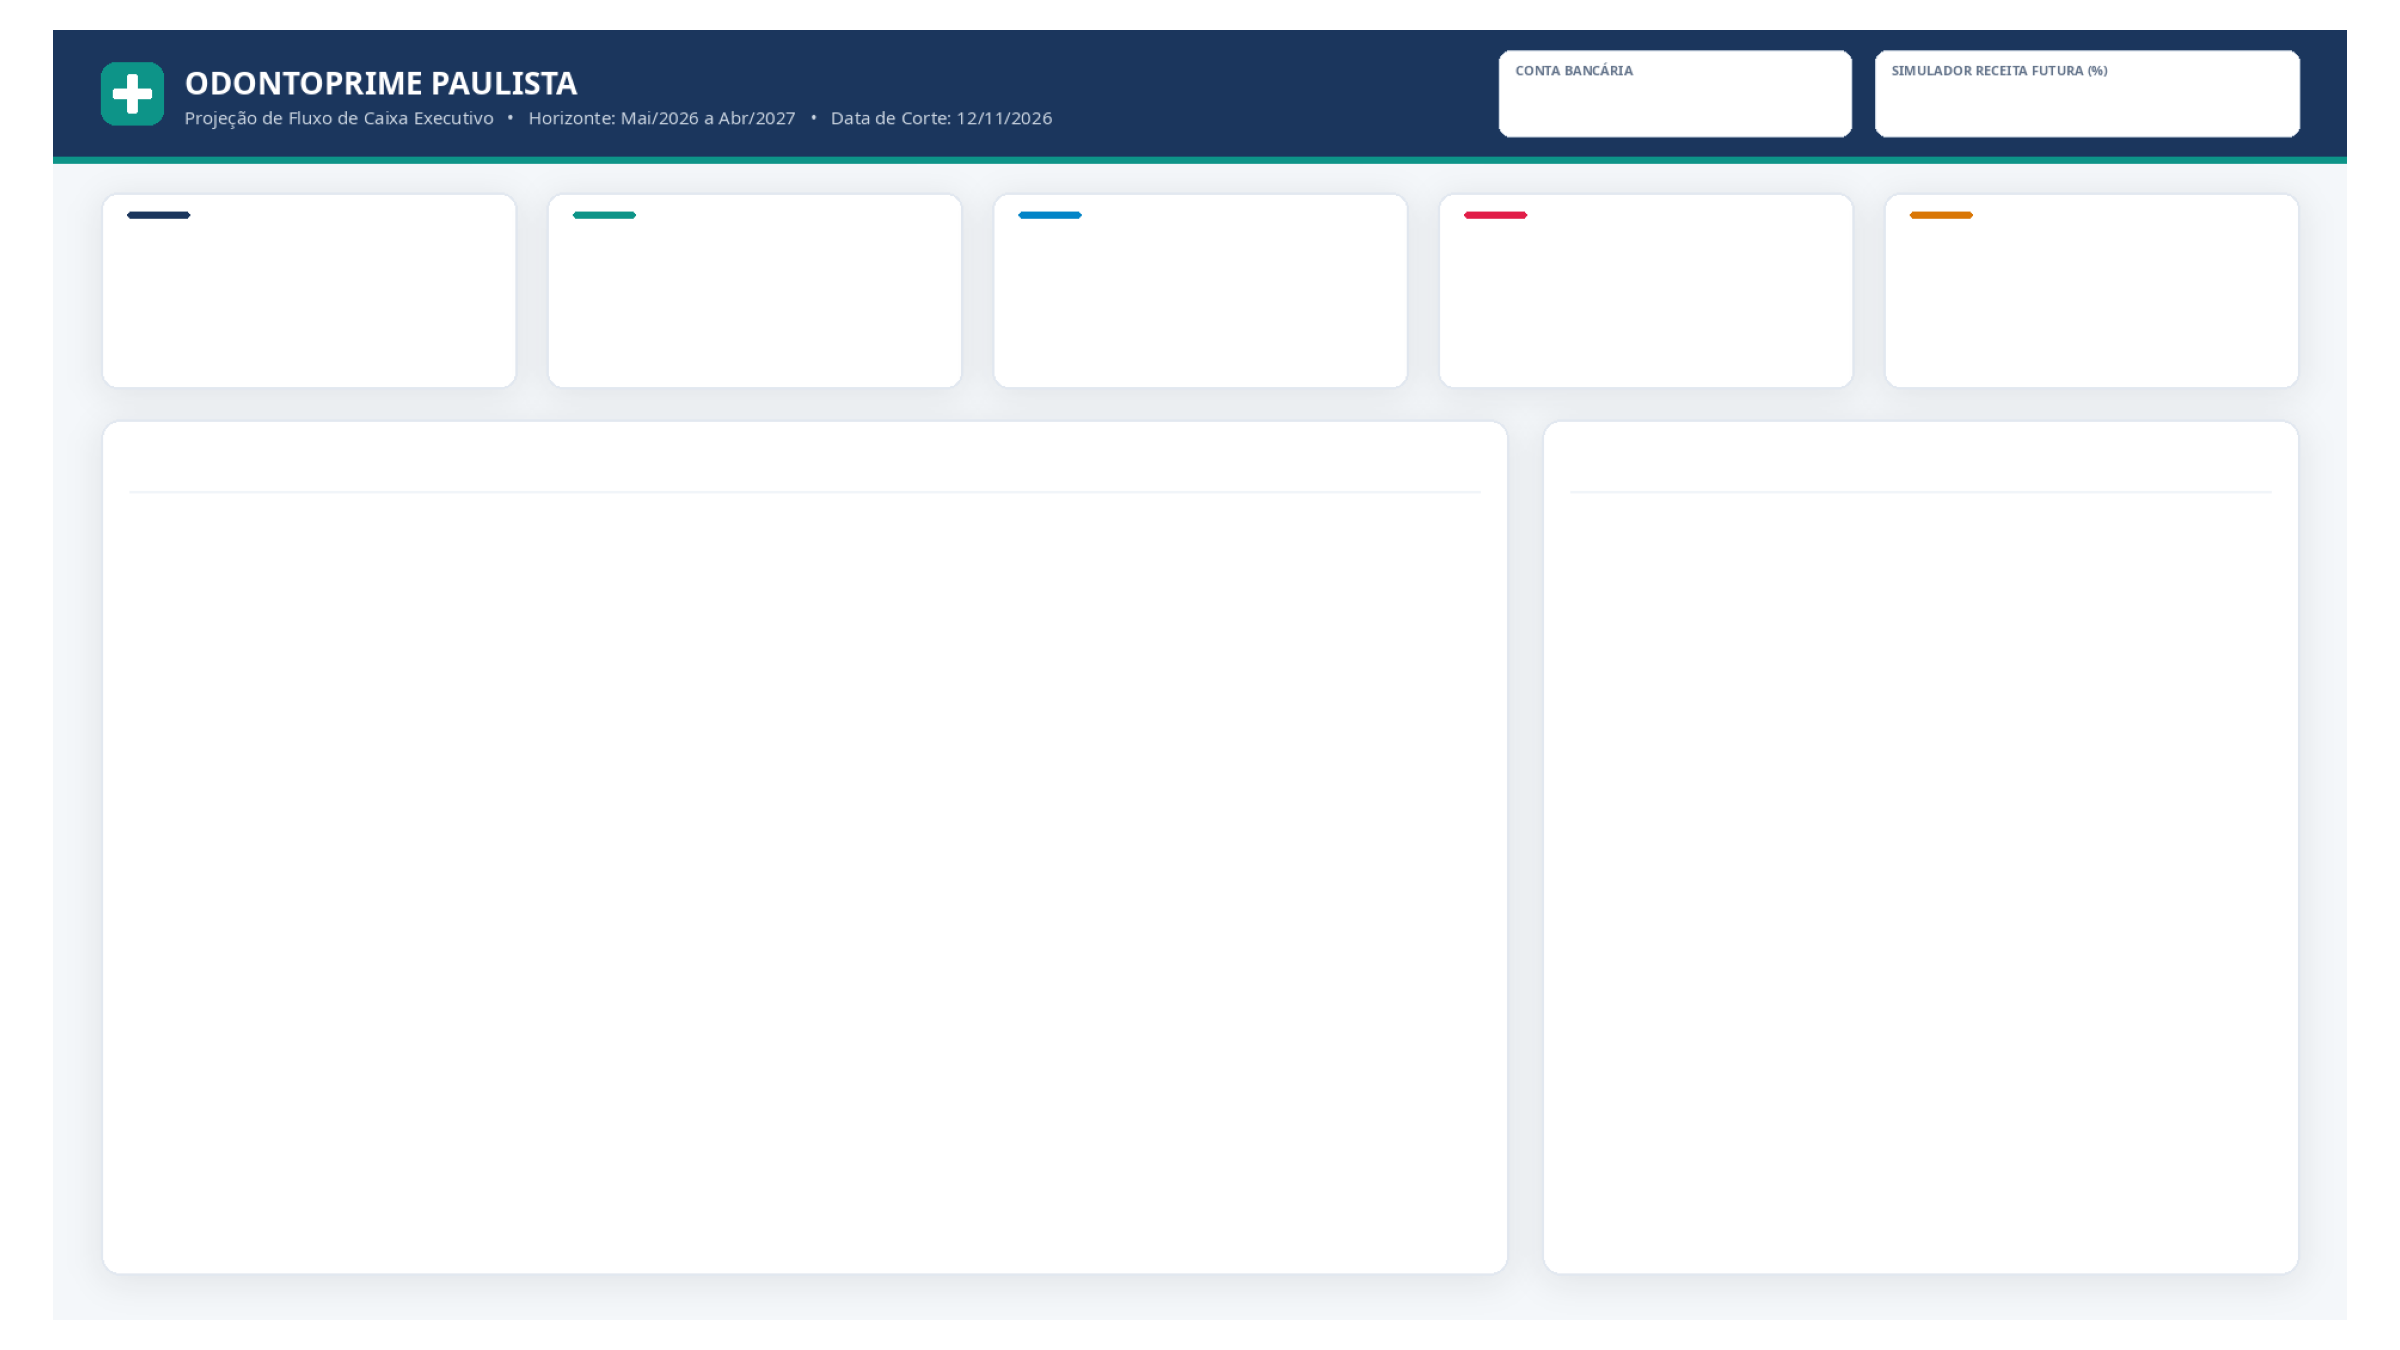

This screenshot's page, from the dashboard's own definition file:
{"tool":"powerbi","page":{"name":"Visão Executiva","canvas":[1920,1080],"ordinal":0},"visuals":[{"type":"cardVisual","title":"Saldo em Caixa (12/11/2026)","fields":{"Data":["_Medidas.Saldo Atual em Caixa"]},"box":[106,216,314,72],"z":0},{"type":"textbox","box":[138,150,286,48],"z":1000},{"type":"cardVisual","title":"Saldo em Caixa (12/11/2026)","fields":{"Data":["_Medidas.Saldo Projetado Acumulado"]},"box":[480,222,314,72],"z":2000},{"type":"textbox","box":[496,152,298,70],"z":3000},{"type":"cardVisual","title":"Saldo em Caixa (12/11/2026)","fields":{"Data":["_Medidas.Geração Líquida Caixa"]},"box":[828,222,314,72],"z":4000},{"type":"textbox","box":[856,152,286,70],"z":5000},{"type":"cardVisual","title":"Saldo em Caixa (12/11/2026)","fields":{"Data":["_Medidas.Inadimplência (R$)"]},"box":[1232,222,264,72],"z":6000},{"type":"textbox","box":[1210,150,286,48],"z":7000},{"type":"cardVisual","title":"Saldo em Caixa (12/11/2026)","fields":{"Data":["_Medidas.Custo Taxas Cartão (MDR)"]},"box":[1538,222,314,72],"z":8000},{"type":"textbox","box":[1566,152,286,70],"z":9000},{"type":"slicer","fields":{"Values":["dSaldoInicial.Banco"]},"box":[1332,62,142,36],"z":10000},{"type":"slicer","fields":{"Values":["Simulador Receita.Simulador Receita"]},"box":[1653,62,186,48],"z":11000},{"type":"lineStackedColumnComboChart","title":"Fluxo de Caixa Mensal e Evolução do Saldo","fields":{"Category":["dCalendario.Mes_Ano"],"Y":["_Medidas.Entradas Realizadas","_Medidas.Entradas Previstas","_Medidas.Saídas Previstas (Negativo)","_Medidas.Saídas Realizadas (Negativo)"],"Y2":["_Medidas.Saldo Projetado Acumulado"]},"box":[106,390,1050,606],"z":12000},{"type":"waterfallChart","title":"Ponte de Geração de Caixa (12 Meses)","fields":{"Category":["dPlanoContas.Grupo_Fluxo"],"Y":["_Medidas.Geração Líquida Caixa"]},"box":[1252,390,568,606],"z":13000},{"type":"actionButton","box":[1770,996,100,40],"z":14000}]}

Visuals, with their boxes in screenshot pixels (x1, y1, x2, y2), scaled from the page's 1920x1080 canvas onto the 2400x1350 screenshot:
"Saldo em Caixa (12/11/2026)" cardVisual: region(132, 270, 525, 360)
textbox: region(172, 188, 530, 248)
"Saldo em Caixa (12/11/2026)" cardVisual: region(600, 278, 992, 368)
textbox: region(620, 190, 992, 278)
"Saldo em Caixa (12/11/2026)" cardVisual: region(1035, 278, 1428, 368)
textbox: region(1070, 190, 1428, 278)
"Saldo em Caixa (12/11/2026)" cardVisual: region(1540, 278, 1870, 368)
textbox: region(1512, 188, 1870, 248)
"Saldo em Caixa (12/11/2026)" cardVisual: region(1922, 278, 2315, 368)
textbox: region(1958, 190, 2315, 278)
slicer - dSaldoInicial.Banco: region(1665, 78, 1842, 122)
slicer - Simulador Receita.Simulador Receita: region(2066, 78, 2299, 138)
"Fluxo de Caixa Mensal e Evolução do Saldo" lineStackedColumnComboChart: region(132, 488, 1445, 1245)
"Ponte de Geração de Caixa (12 Meses)" waterfallChart: region(1565, 488, 2275, 1245)
actionButton: region(2212, 1245, 2338, 1295)
